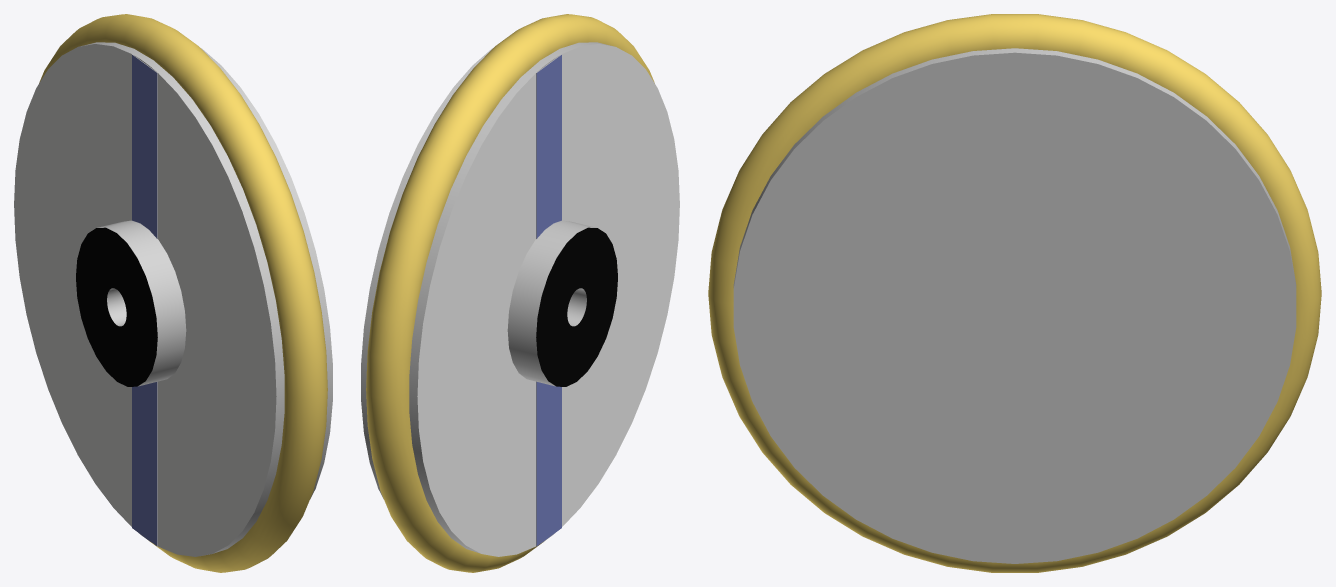
Rendered from wheels.dae.
The picture shows the model from 3 angles, left to right: view 1: azimuth 30°, elevation 25°; view 2: azimuth 150°, elevation 25°; view 3: azimuth 270°, elevation 25°; orthographic projection. The views are drawn at different scales.
Visible parts, largest first — view 1: whee; view 2: whee; view 3: whee.
Boxes of the visible parts, x1,y1,x2,y2 form: whee: (14,14,332,572); whee: (361,14,679,572); whee: (708,14,1321,572).
Size of the model in its own units: 1.5 by 8.7 by 8.68.
